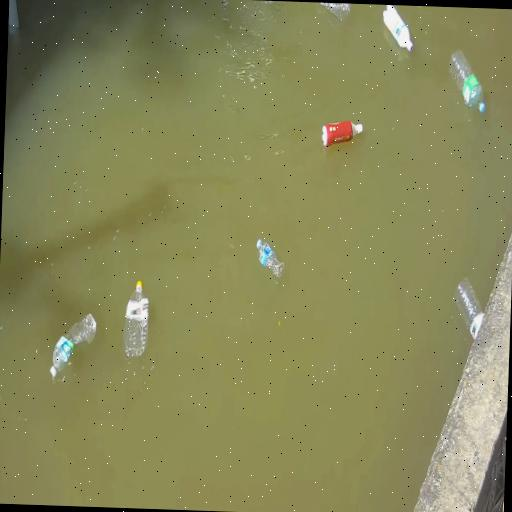plastic: (50, 315, 96, 378), (450, 50, 485, 112), (123, 280, 149, 363), (455, 278, 484, 339), (383, 5, 413, 52), (257, 239, 284, 283), (323, 121, 363, 147), (319, 3, 350, 20)
